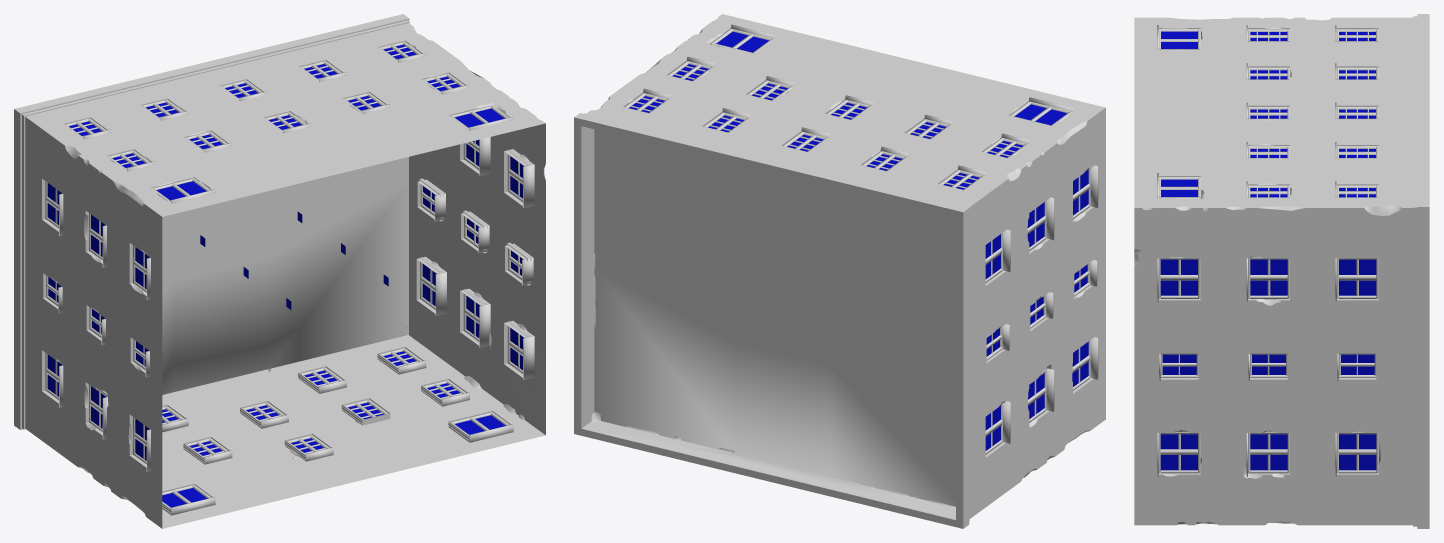
File: noDoors3.fbx
The picture shows the model from 3 angles, left to right: view 1: azimuth 30°, elevation 25°; view 2: azimuth 150°, elevation 25°; view 3: azimuth 270°, elevation 25°; orthographic projection.
Parts seen in each view (by area): view 1: outerwall, Transp; view 2: outerwall, Transp; view 3: outerwall, Transp.
Boxes of the visible parts, bbox=[...] form: outerwall: bbox=[14, 14, 545, 528]; Transp: bbox=[47, 44, 523, 507]; outerwall: bbox=[574, 14, 1105, 528]; Transp: bbox=[629, 31, 1088, 450]; outerwall: bbox=[1134, 14, 1429, 528]; Transp: bbox=[1160, 31, 1376, 470].
Size of the model in its own units: 2009 by 1561 by 1296.
